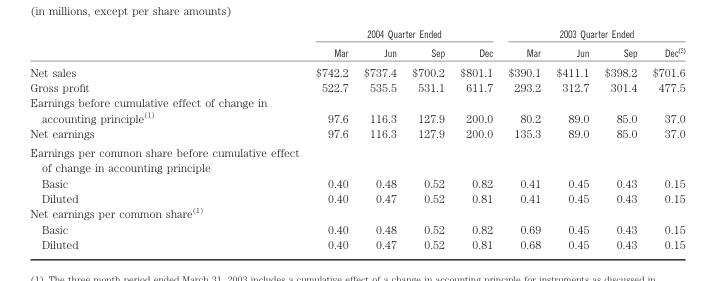table: (29, 29, 684, 250)
table column: (29, 29, 290, 250), (290, 29, 355, 250), (547, 29, 596, 250), (355, 29, 403, 250), (403, 29, 451, 250), (451, 29, 499, 250), (499, 29, 547, 250), (596, 29, 644, 250), (644, 29, 684, 250)
table column header: (29, 29, 684, 61)
table projected row header: (29, 142, 684, 174), (29, 204, 684, 220)
table row: (29, 142, 684, 174), (29, 94, 684, 125), (29, 43, 684, 61), (29, 61, 684, 79), (29, 125, 684, 142), (29, 174, 684, 190), (29, 204, 684, 220), (29, 220, 684, 236), (29, 79, 684, 94), (29, 29, 684, 43), (29, 190, 684, 204), (29, 236, 684, 250)
table spanning cell: (290, 29, 499, 43), (499, 29, 684, 43)
